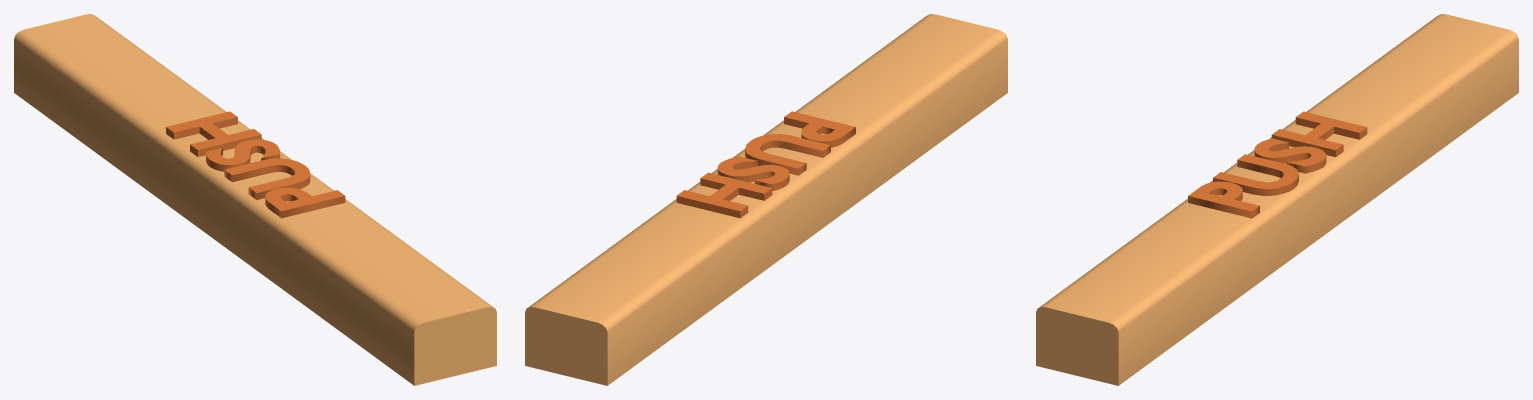
File: push_final.fbx
3 renders of one model, left to right at view 1: azimuth 30°, elevation 25°; view 2: azimuth 150°, elevation 25°; view 3: azimuth 330°, elevation 25°, orthographic.
Visible parts, largest first — view 1: Text.001; view 2: Text.001; view 3: Text.001.
Boxes of the visible parts, x1,y1,x2,y2 form: Text.001: (14,14,496,385); Text.001: (525,14,1007,385); Text.001: (1036,14,1518,385).
Bounding box in the file's own units: 93.87 × 74 × 790.
